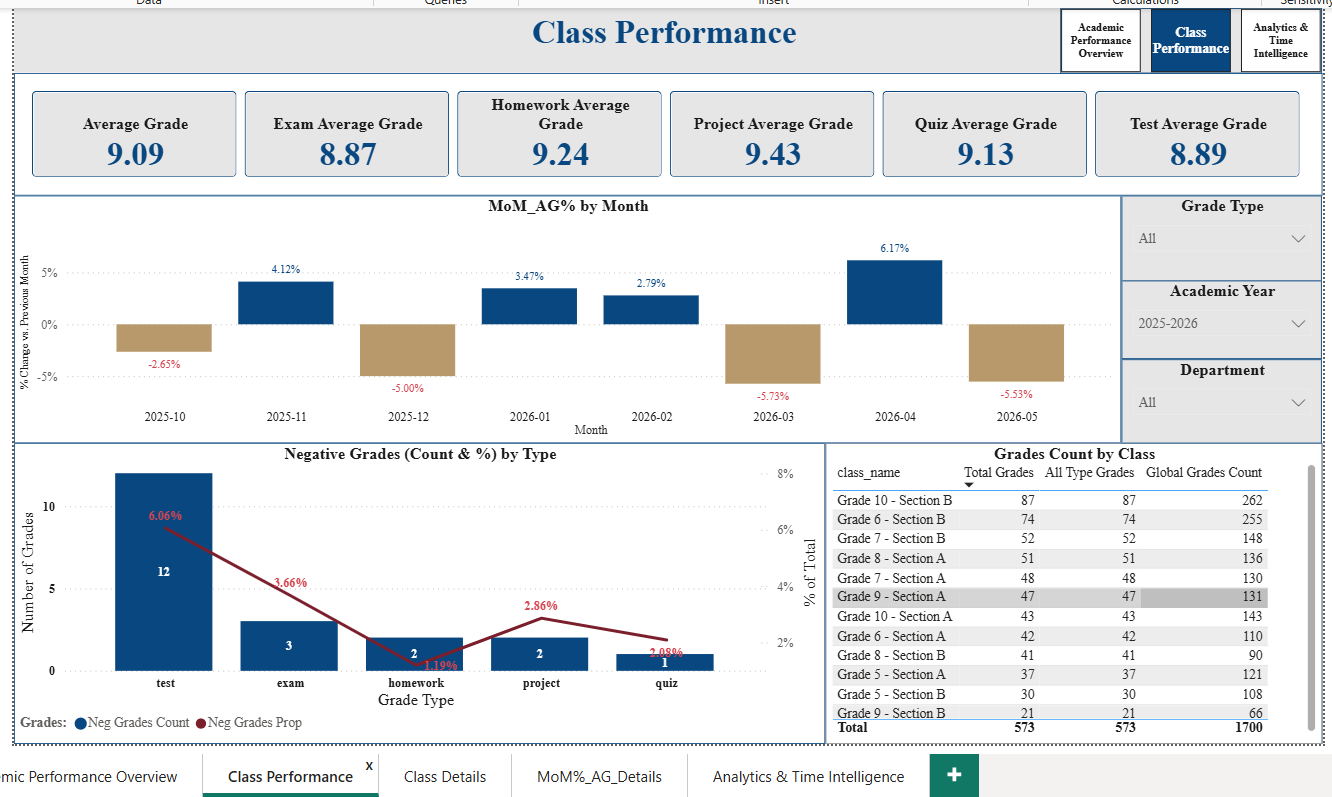

The page's visual inventory and layout, read from the dashboard file:
{"tool":"powerbi","page":{"name":"Class Performance","canvas":[1280,720],"ordinal":1},"visuals":[{"type":"cardVisual","fields":{"Data":["_Measures.Average Grade","_Measures.Exam Average Grade","_Measures.Homework Average Grade","_Measures.Project Average Grade","_Measures.Quiz Average Grade","_Measures.Test Average Grade"]},"box":[0,63.6,1280,120],"z":0},{"type":"textbox","box":[0,0,1280.3,63.6],"z":1000},{"type":"tableEx","title":"Grades Count by Class","fields":{"Values":["classes.class_name","_Measures.Total Grades","_Measures.All Type Grades","_Measures.Global Grades Count"]},"box":[793.6,425.2,486.4,294.4],"z":2000},{"type":"lineClusteredColumnComboChart","title":"Negative Grades (Count & %) by Type","fields":{"Category":["grades.grade_type"],"Y":["_Measures.Neg Grades Count"],"Y2":["_Measures.Neg Grades Prop"]},"box":[0,425.2,793.6,294.4],"z":3000},{"type":"clusteredColumnChart","title":"MoM_AG% by Month","fields":{"Category":["Calendar.Year-Month"],"Y":["_Measures.MoM_AG%1"]},"box":[0,183.4,1083.4,242.1],"z":4000},{"type":"slicer","title":"Grade Type","fields":{"Values":["grades.grade_type"]},"box":[1083.5,183.2,196.2,83.7],"z":5000},{"type":"slicer","title":"Academic Year","fields":{"Values":["periods.academic_year"]},"box":[1083.5,266.9,196.2,76.5],"z":6000},{"type":"slicer","title":"Department","fields":{"Values":["subjects.department_hint"]},"box":[1083.5,343.4,196.2,82.2],"z":7000},{"type":"pageNavigator","box":[1024,0,256,64],"z":8000}]}

Visuals, with their boxes in screenshot pixels (x1, y1, x2, y2):
cardVisual - _Measures.Average Grade x _Measures.Exam Average Grade: [x1=7, y1=69, x2=1321, y2=192]
textbox: [x1=7, y1=3, x2=1321, y2=69]
"Grades Count by Class" tableEx: [x1=821, y1=440, x2=1321, y2=742]
"Negative Grades (Count & %) by Type" lineClusteredColumnComboChart: [x1=7, y1=440, x2=821, y2=742]
"MoM_AG% by Month" clusteredColumnChart: [x1=7, y1=192, x2=1119, y2=440]
"Grade Type" slicer: [x1=1119, y1=191, x2=1320, y2=277]
"Academic Year" slicer: [x1=1119, y1=277, x2=1320, y2=356]
"Department" slicer: [x1=1119, y1=356, x2=1320, y2=440]
pageNavigator: [x1=1058, y1=3, x2=1321, y2=69]
